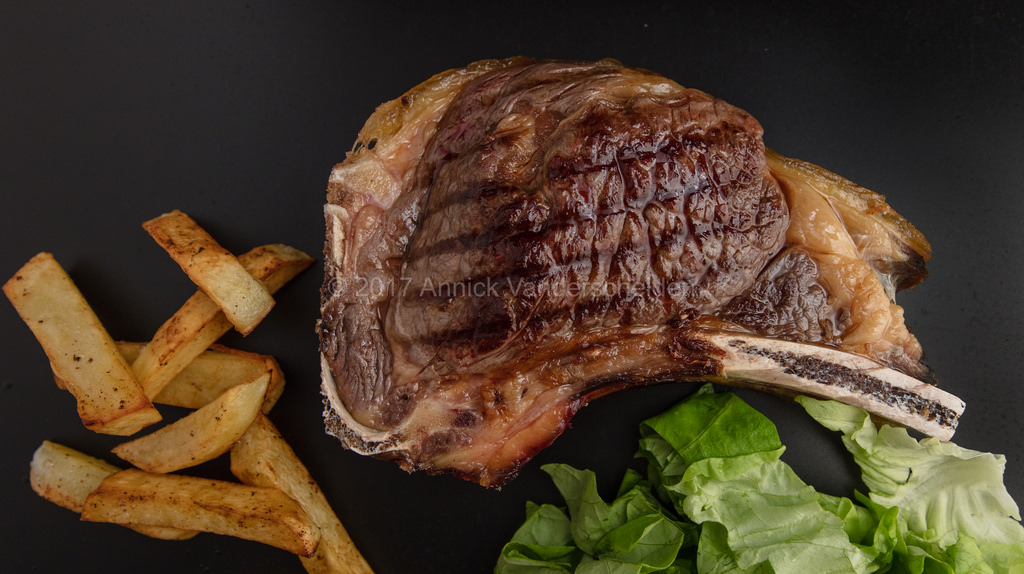chopped lettuce: (578, 443, 1019, 543)
